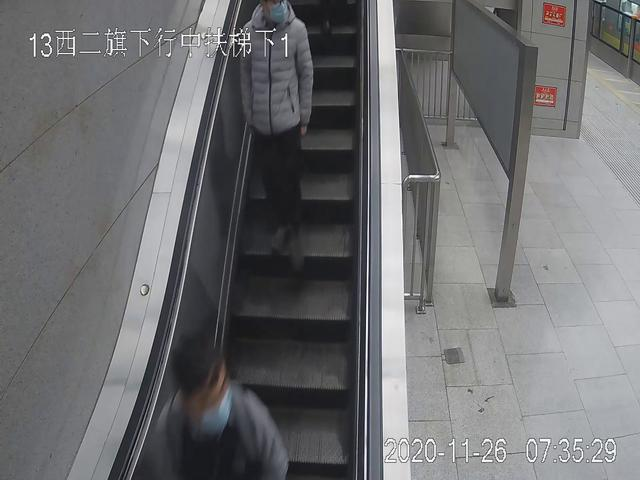person: (148, 335, 287, 480), (239, 1, 314, 269)
